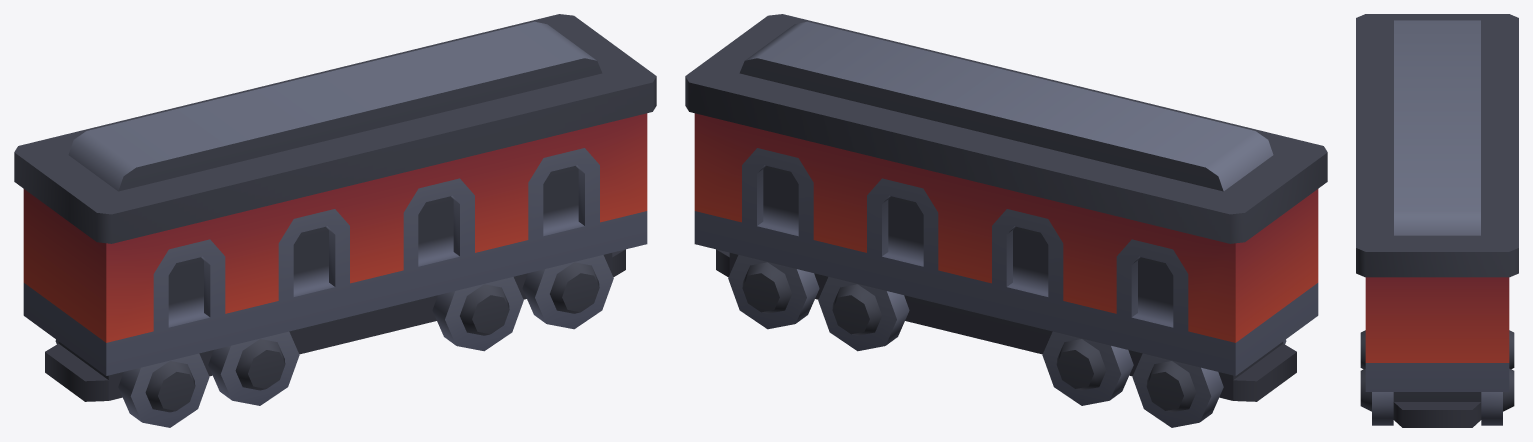
The model's file is train-wagon.glb.
3 views of the same model, side by side, from view 1: azimuth 30°, elevation 25°; view 2: azimuth 150°, elevation 25°; view 3: azimuth 270°, elevation 25° (orthographic). The views are drawn at different scales.
Visible parts, largest first — view 1: train-wagon; view 2: train-wagon; view 3: train-wagon.
Boxes of the visible parts, x1=… form: train-wagon: x1=14, y1=14, x2=656, y2=427; train-wagon: x1=685, y1=14, x2=1327, y2=427; train-wagon: x1=1356, y1=14, x2=1518, y2=427.
Bounding box in the file's own units: 0.7154 × 0.313 × 0.207.
